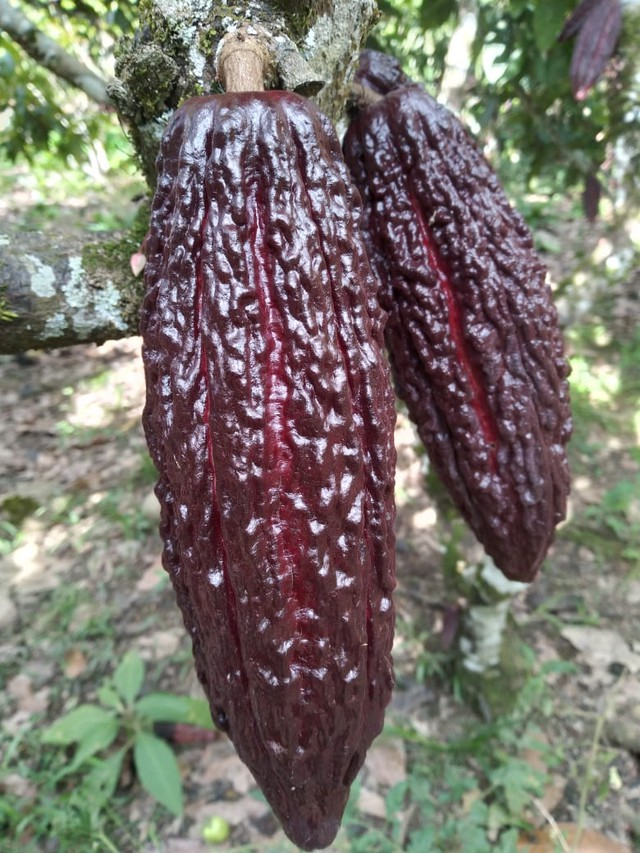Health: (138, 63, 396, 853), (340, 71, 579, 603)
